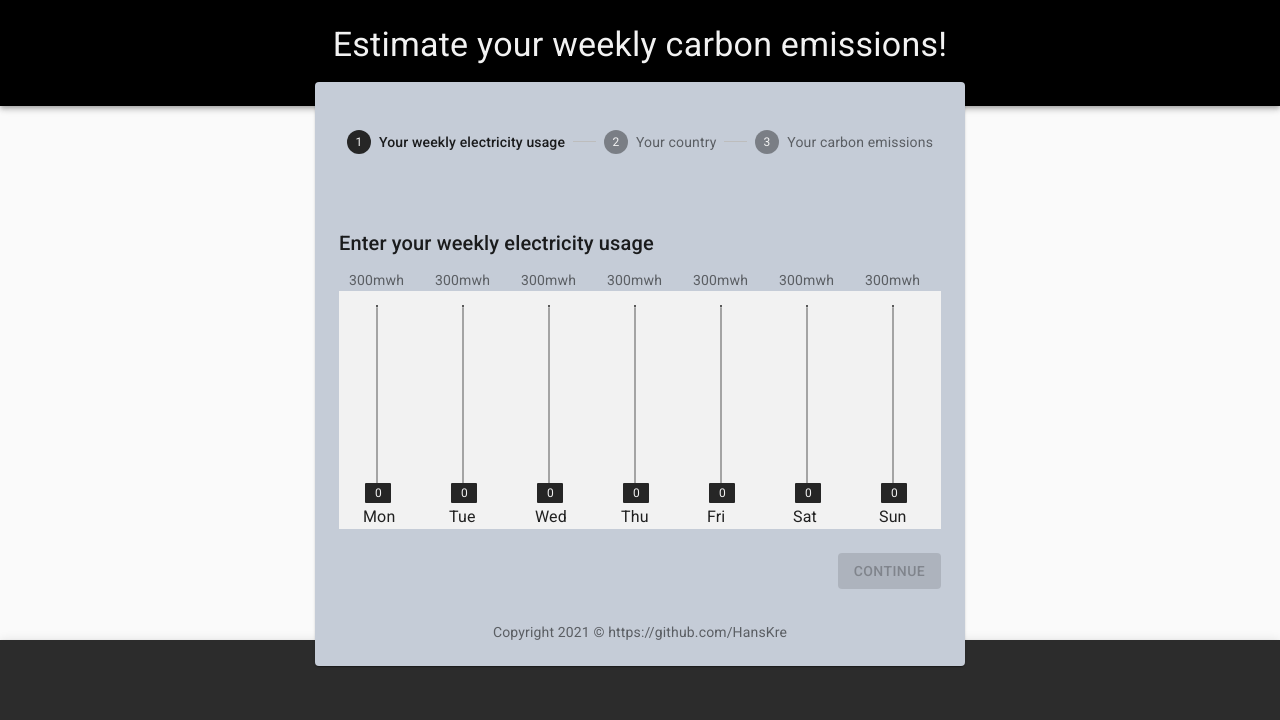
it: User Journey › Desktop › Usage Form Interactions › when navigating back to usage-form, value should remain set and equal
The width and height of the screenshot is (1280, 720).
Press Uparrow Uparrow Uparrow Uparrow {upa in the 4th slider labelled "0", box 623,483 -> 649,503
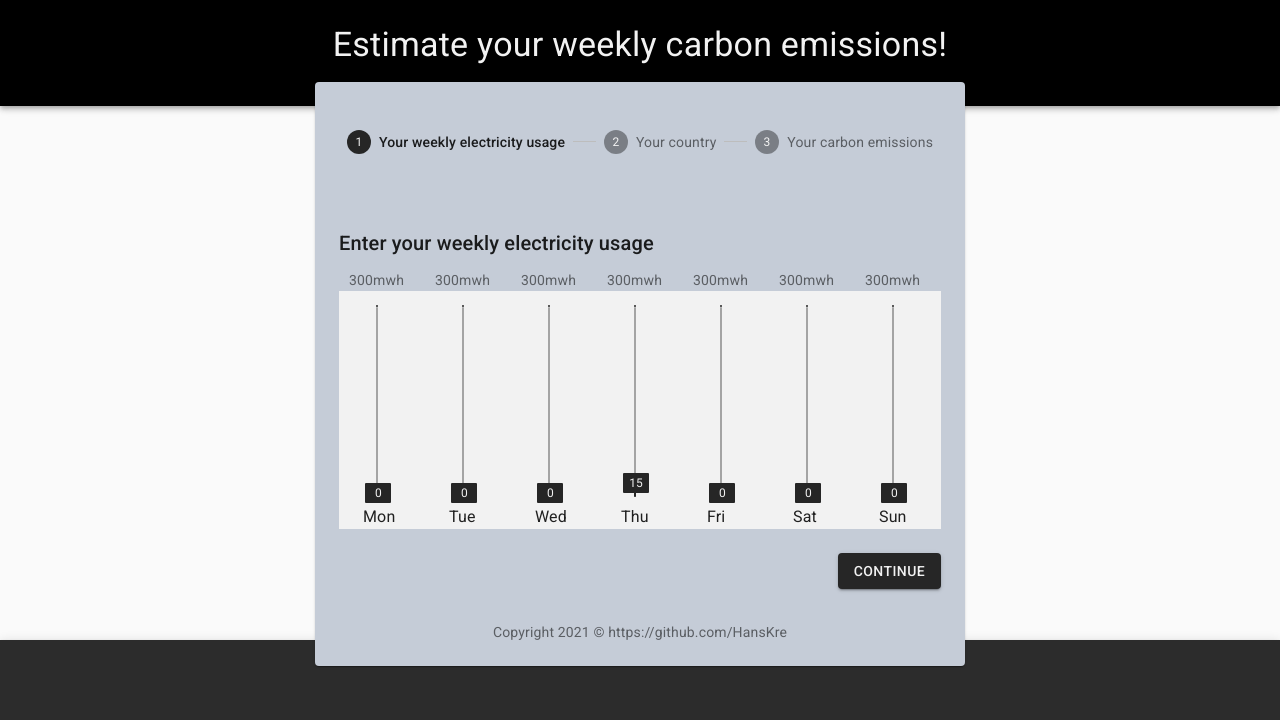
Click the button with id "continue-btn": (890, 572) 838,553 -> 941,590
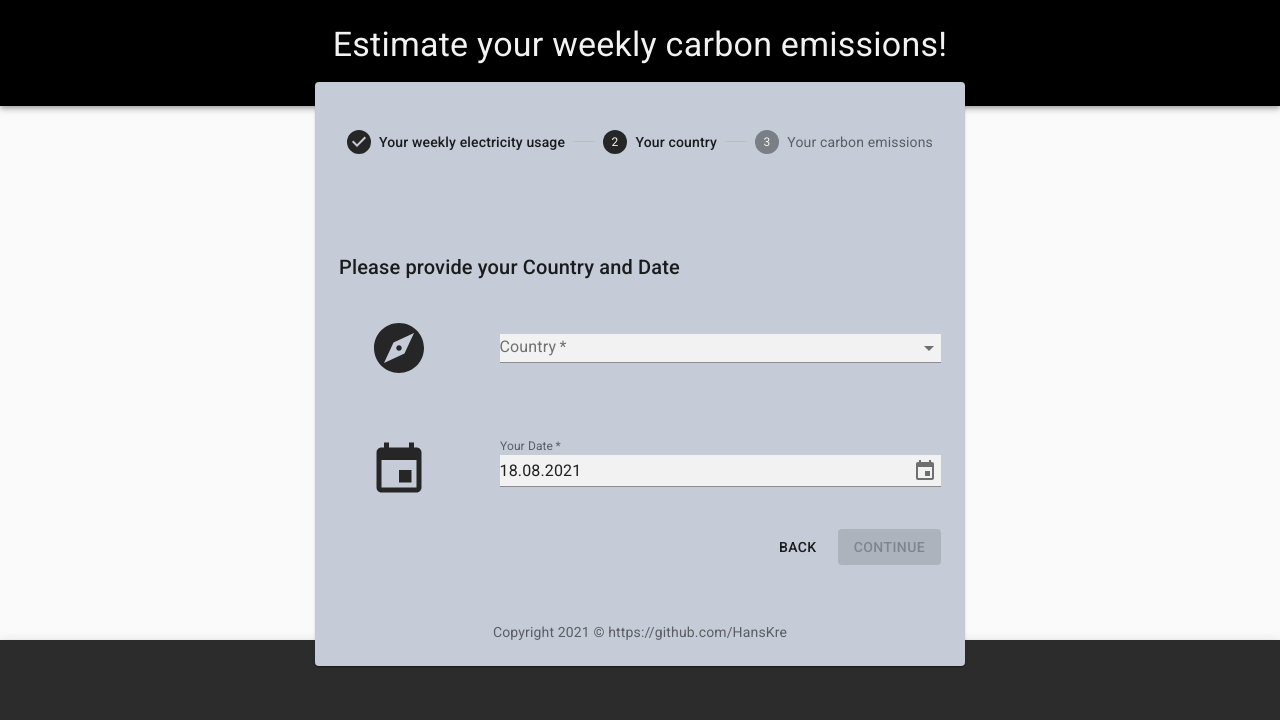
Check: the button with id "back-btn" is shown
Check: the button with id "back-btn" is enabled
Click the button with id "back-btn": (798, 548) 766,529 -> 830,566
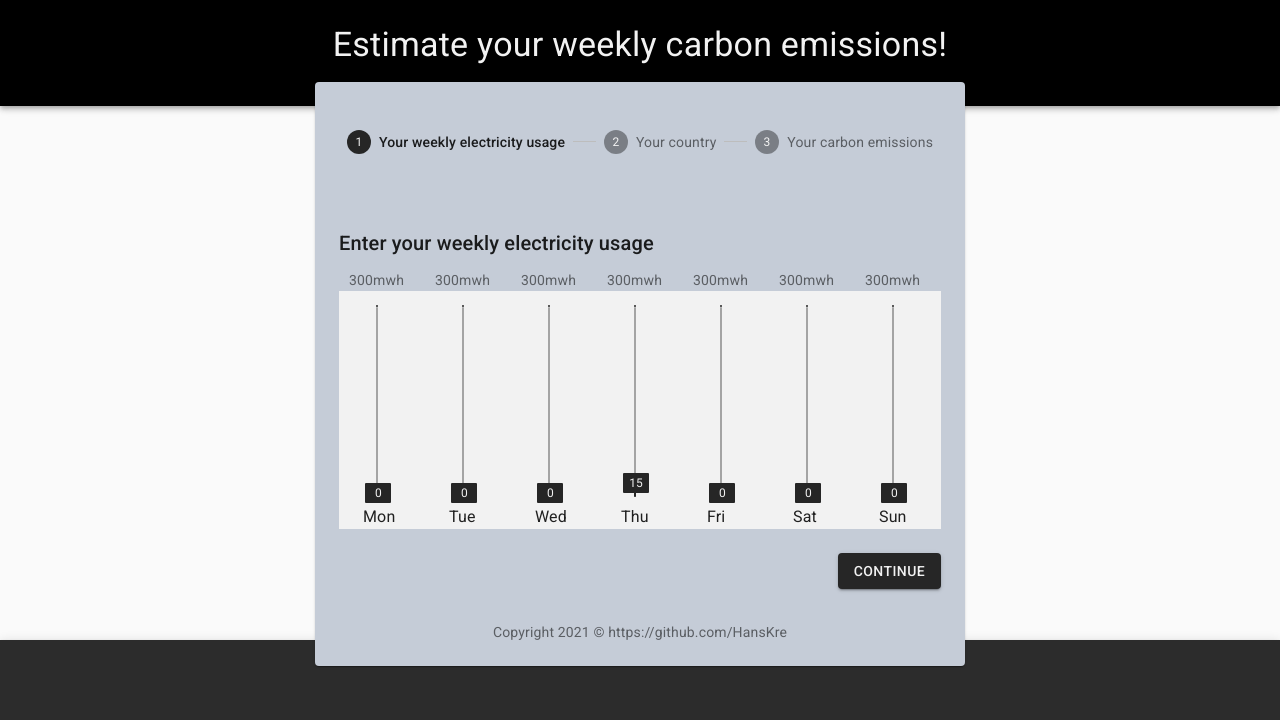
Check: the element showing "15" is shown, box 629,476 -> 643,490
